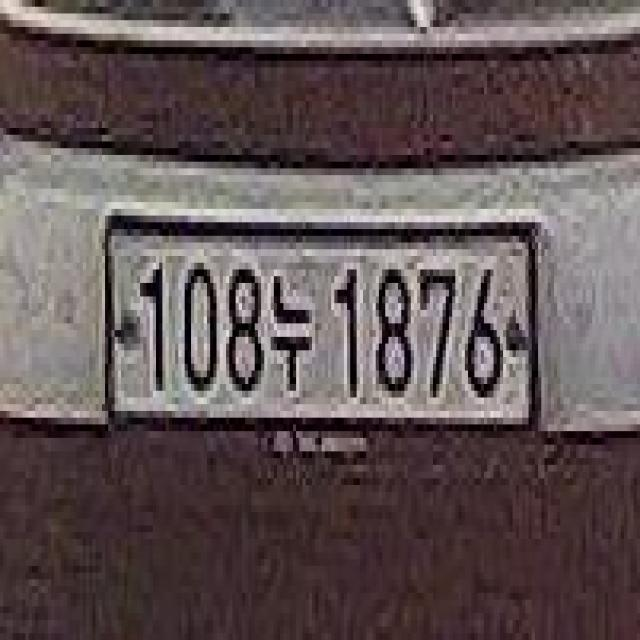illegal_plate: (101, 203, 538, 459)
